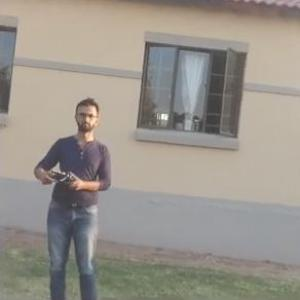follow: (23, 94, 118, 299)
